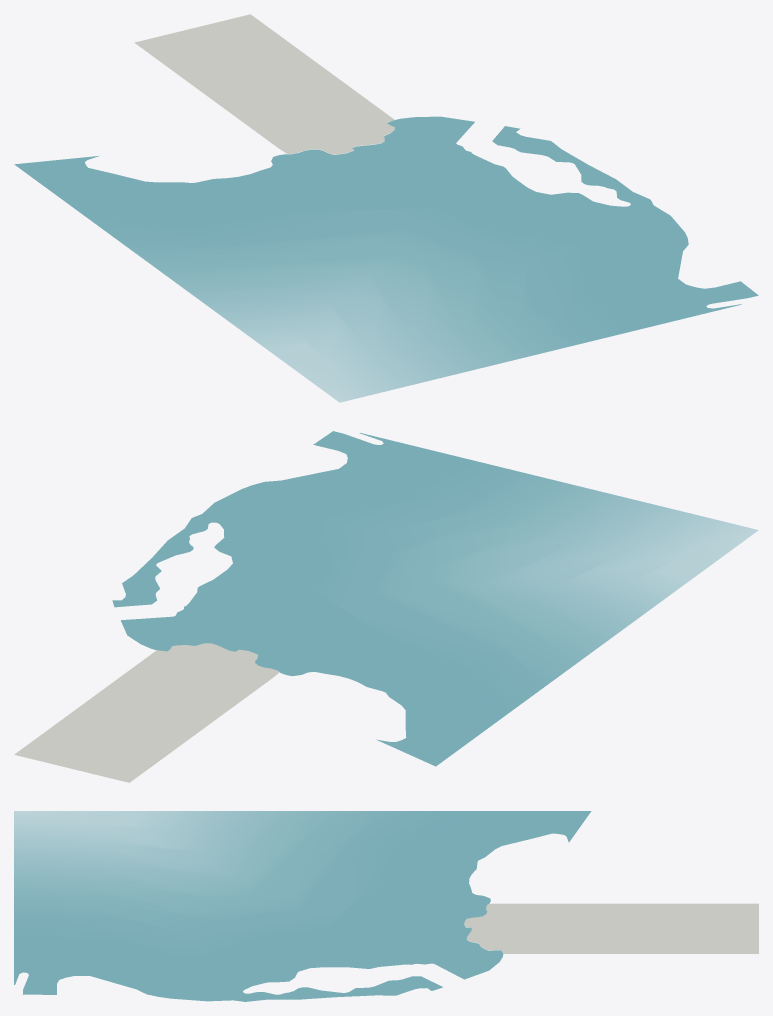
3 renders of one model, top to bottom at view 1: azimuth 30°, elevation 25°; view 2: azimuth 150°, elevation 25°; view 3: azimuth 270°, elevation 25°, orthographic. The views are drawn at different scales.
Parts seen in each view (by area): view 1: city; view 2: city; view 3: city.
Boxes of the visible parts, left/top/right/bottom form: city: left=14, top=14, right=758, bottom=402; city: left=14, top=431, right=758, bottom=782; city: left=14, top=811, right=758, bottom=1001.
Size of the model in its own units: 303 by 0.18 by 500.
